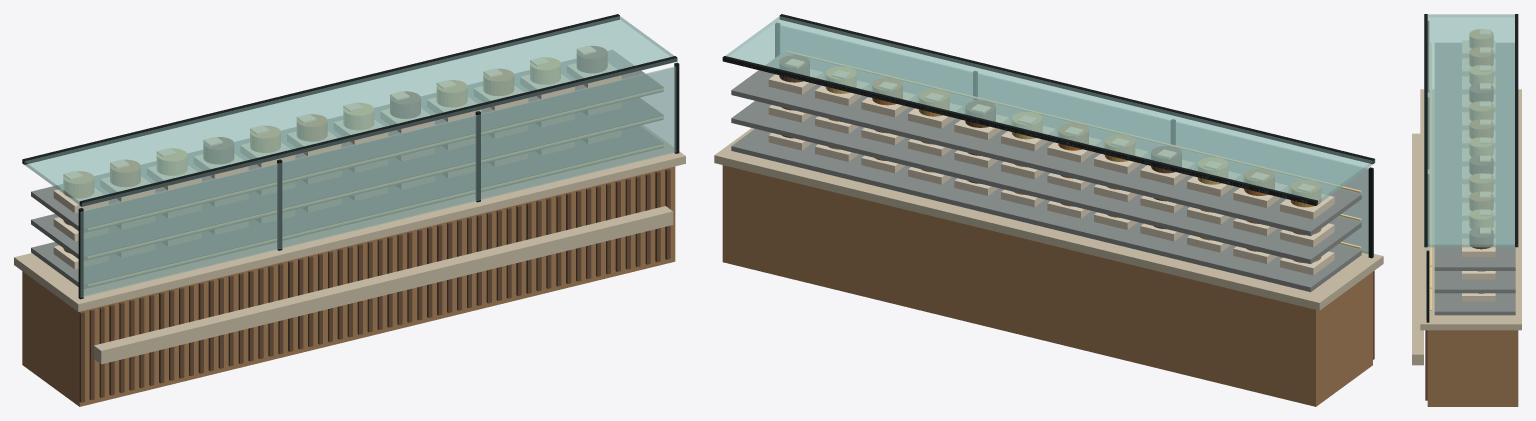
File: better.glb
3 renders of one model, left to right at view 1: azimuth 30°, elevation 25°; view 2: azimuth 150°, elevation 25°; view 3: azimuth 270°, elevation 25°, orthographic. The views are drawn at different scales.
Parts seen in each view (by area): view 1: starbucksDisplay_181, starbucksDisplay_182, starbucksDisplay_0, starbucksDisplay_139, starbucksDisplay_61, starbucksDisplay_63, starbucksDisplay_101, starbucksDisplay_62, starbucksDisplay_184, starbucksDisplay_183, starbucksDisplay_138, starbucksDisplay_100 (+13 smaller); view 2: starbucksDisplay_0, starbucksDisplay_182, starbucksDisplay_139, starbucksDisplay_181, starbucksDisplay_63, starbucksDisplay_101, starbucksDisplay_61, starbucksDisplay_183, starbucksDisplay_184, starbucksDisplay_176, starbucksDisplay_140, starbucksDisplay_64 (+12 smaller); view 3: starbucksDisplay_182, starbucksDisplay_139, starbucksDisplay_0, starbucksDisplay_61, starbucksDisplay_62, starbucksDisplay_63, starbucksDisplay_101, starbucksDisplay_183, starbucksDisplay_184, starbucksDisplay_176, starbucksDisplay_173, starbucksDisplay_174 (+26 smaller).
Boxes of the visible parts, x1,y1,x2,y2 form: starbucksDisplay_181: (80, 66, 676, 297); starbucksDisplay_182: (24, 16, 677, 206); starbucksDisplay_0: (22, 166, 675, 406); starbucksDisplay_139: (31, 50, 663, 232); starbucksDisplay_61: (14, 125, 685, 311); starbucksDisplay_63: (31, 126, 663, 288); starbucksDisplay_101: (31, 98, 663, 260); starbucksDisplay_62: (94, 206, 673, 364); starbucksDisplay_184: (79, 56, 677, 206); starbucksDisplay_183: (22, 14, 619, 164); starbucksDisplay_138: (87, 116, 663, 258); starbucksDisplay_100: (87, 144, 663, 286); starbucksDisplay_0: (722, 165, 1372, 406); starbucksDisplay_182: (725, 16, 1375, 204); starbucksDisplay_139: (731, 53, 1361, 236); starbucksDisplay_181: (780, 25, 1373, 254); starbucksDisplay_63: (731, 128, 1361, 292); starbucksDisplay_101: (731, 101, 1361, 264); starbucksDisplay_61: (714, 128, 1383, 310); starbucksDisplay_183: (722, 56, 1317, 205); starbucksDisplay_184: (779, 14, 1374, 163); starbucksDisplay_176: (787, 51, 1361, 192); starbucksDisplay_140: (1280, 194, 1334, 219); starbucksDisplay_64: (1280, 251, 1334, 275); starbucksDisplay_182: (1424, 14, 1517, 247); starbucksDisplay_139: (1434, 43, 1515, 270); starbucksDisplay_0: (1427, 330, 1518, 406); starbucksDisplay_61: (1420, 89, 1521, 330); starbucksDisplay_62: (1412, 133, 1423, 365); starbucksDisplay_63: (1434, 293, 1515, 315); starbucksDisplay_101: (1434, 271, 1515, 293); starbucksDisplay_183: (1515, 14, 1518, 247); starbucksDisplay_184: (1424, 14, 1427, 247); starbucksDisplay_176: (1430, 43, 1431, 266); starbucksDisplay_173: (1462, 239, 1495, 257); starbucksDisplay_174: (1469, 227, 1493, 249).
Size of the model in its own units: 6.12 by 1.98 by 1.21.
